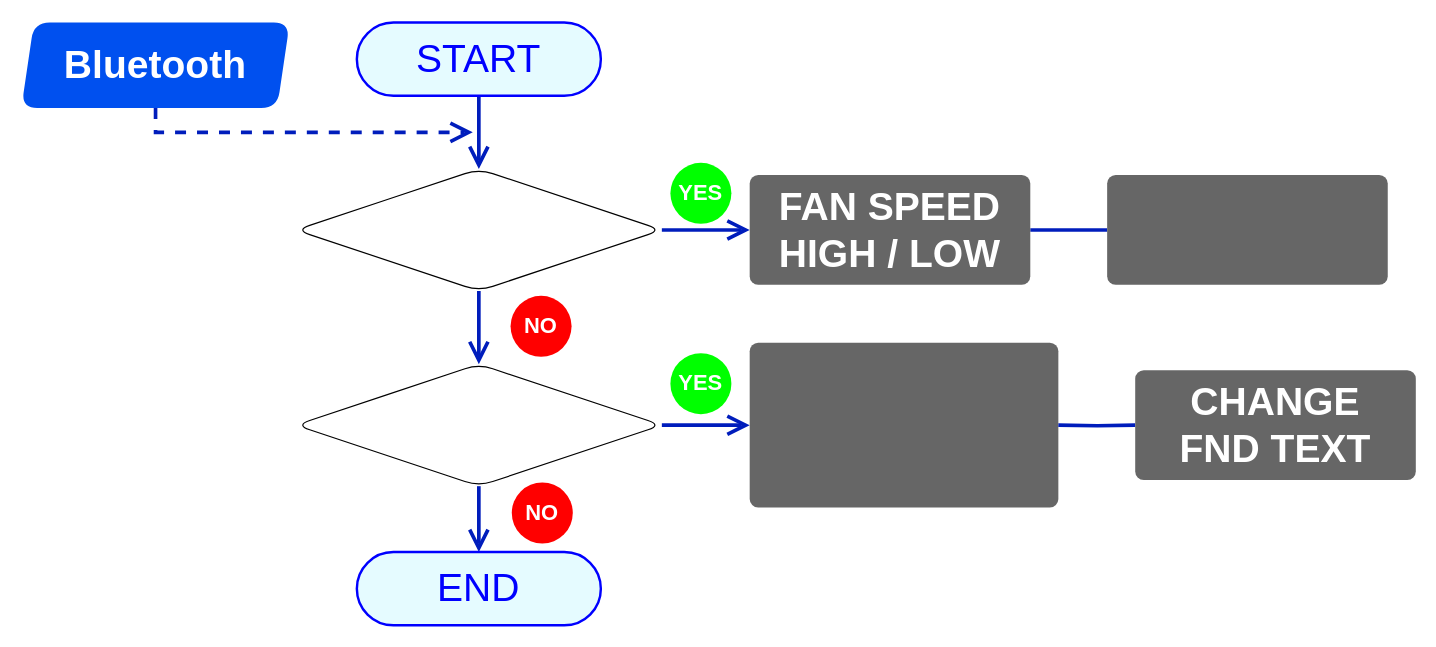
Some shapes in this 1436 by 647 pixel diagram are drawn without their labels. The shapes that lost their labels are listed below. From the top down, each one's box as (x1, y1, x2, y2) in pixels, then its label:
(295, 168, 662, 291): Fan Button PUSHED?
(1107, 174, 1387, 284): CHANGE 7-SEG NUM
(295, 363, 662, 486): Motor Button PUSHED?
(749, 342, 1058, 507): ROTATE BACKGROUND PANEL
